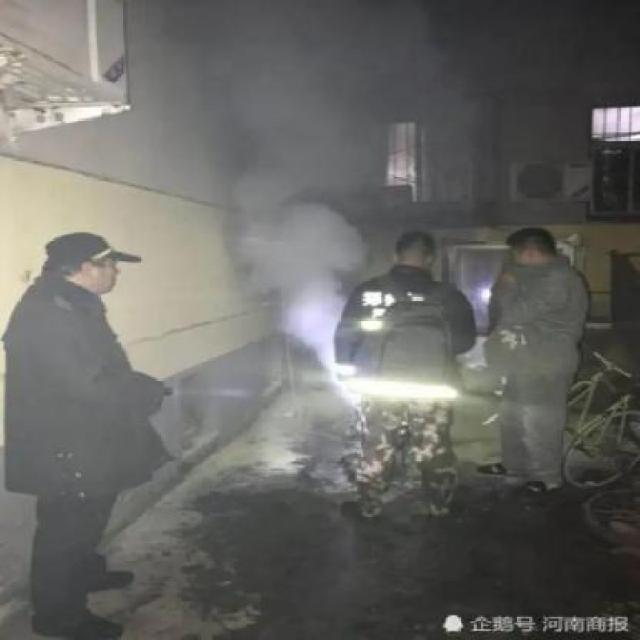Smoke: (218, 2, 396, 381)
